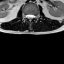CCS_normal: (28, 11, 31, 24)
LFS_normal: (34, 12, 37, 20)
LLS_normal: (31, 11, 34, 21)
RFS_normal: (22, 11, 25, 20)
RLS_normal: (25, 11, 28, 20)
